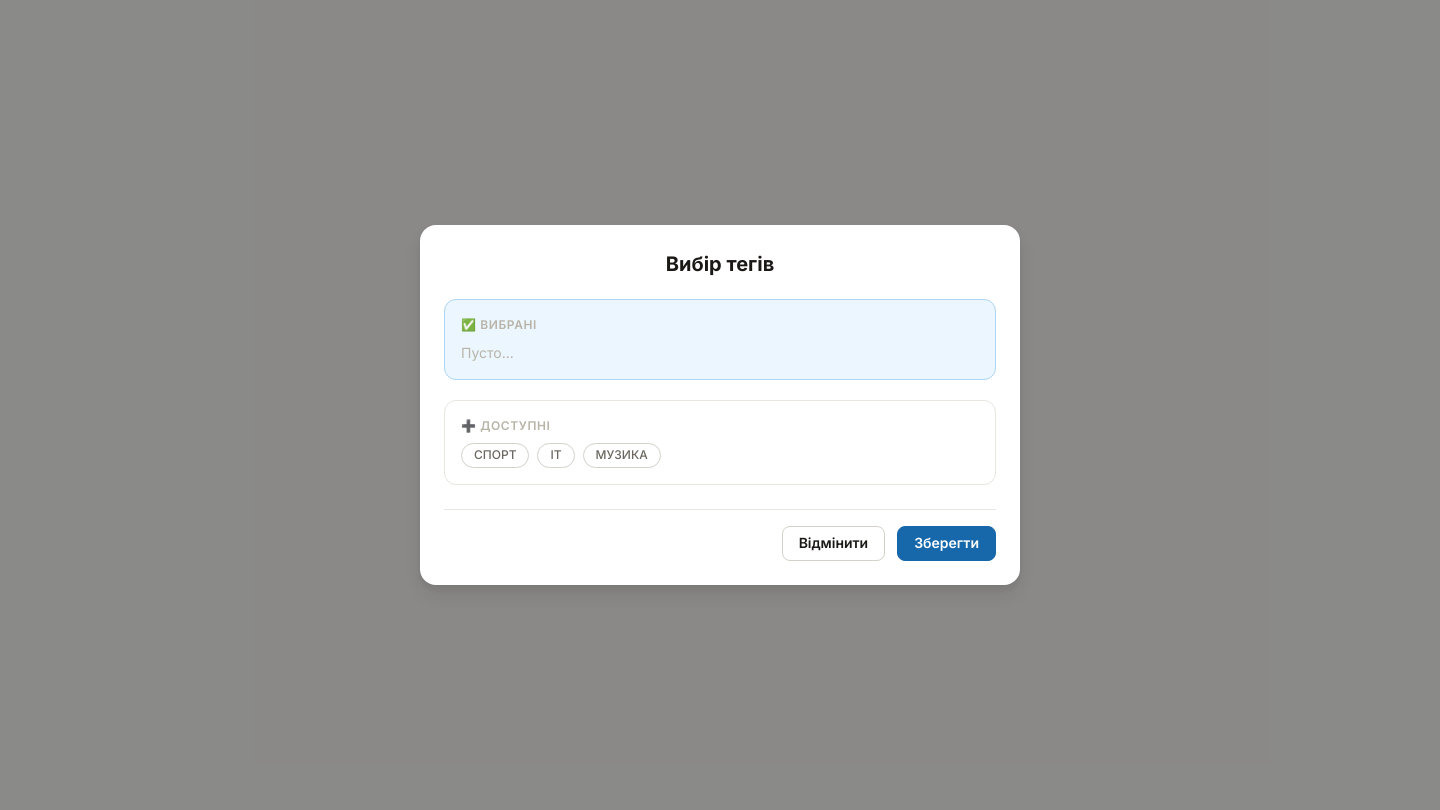
Test: TagSelectionModal — модальне вікно вибору тегів › переносить тег із «Доступні» у «Вибрані» при кліку (toggle on)
Act — клікаємо доступний тег "IT"
Click the button "IT" at (556, 456), box [538,443,575,468]
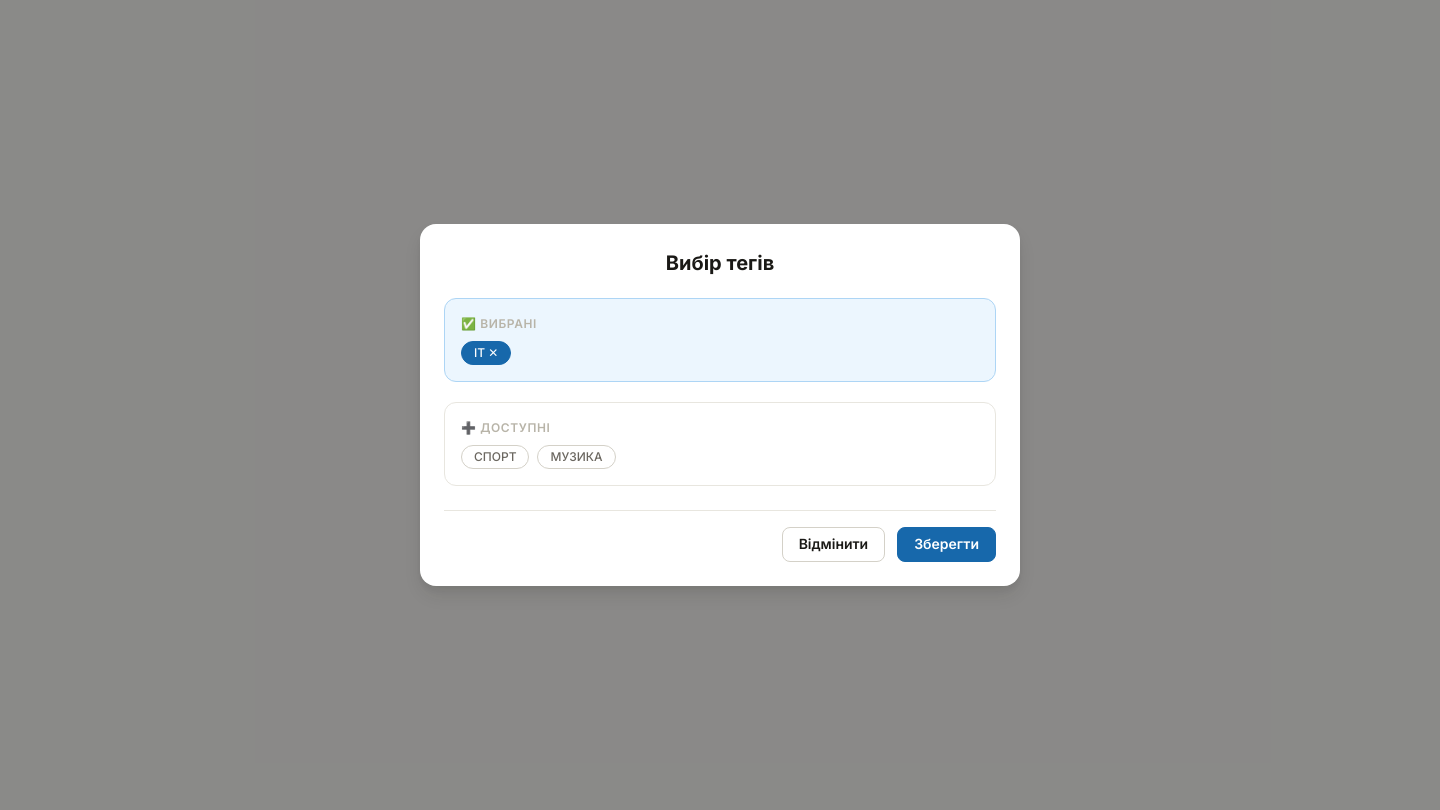
Check: the button "IT ✕" is shown, box [461,341,511,365]
Check: the text "Пусто..." is gone
